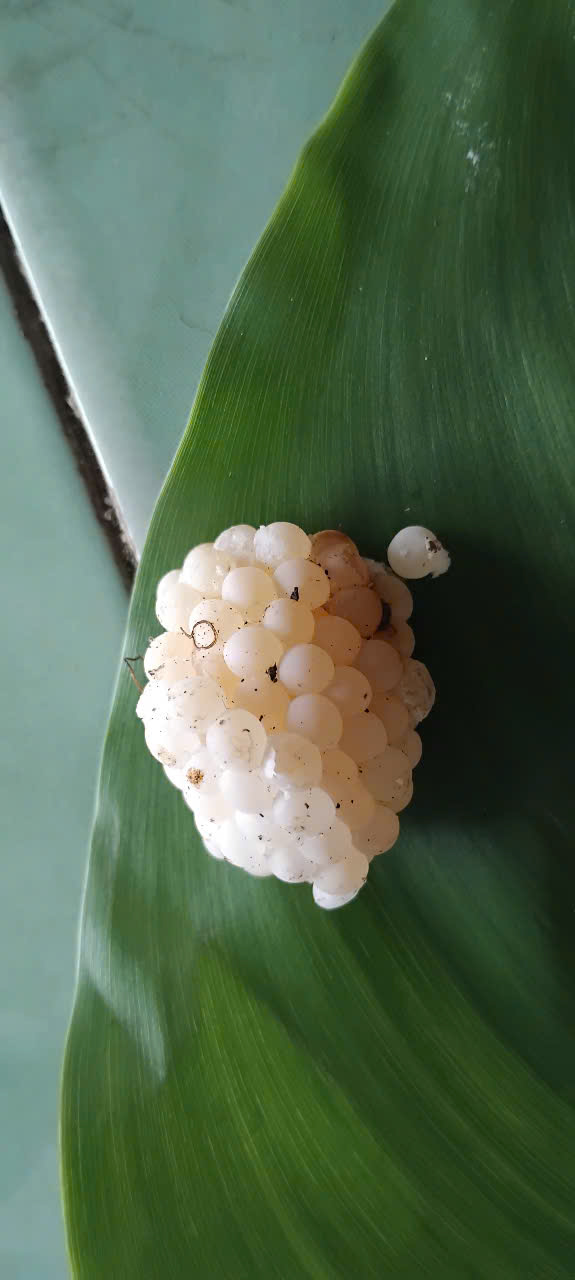trung_oc_buou_den: (103, 450, 471, 918)
